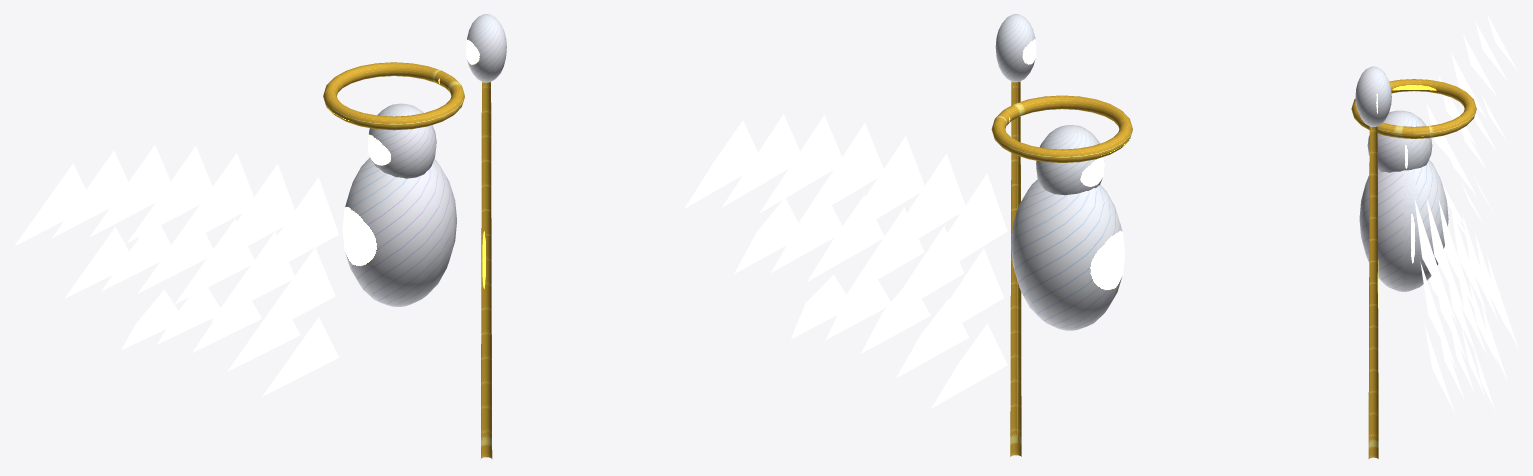
The model's file is moksha_seraph.glb.
3 renders of one model, left to right at view 1: azimuth 30°, elevation 25°; view 2: azimuth 150°, elevation 25°; view 3: azimuth 270°, elevation 25°, orthographic. The views are drawn at different scales.
Parts seen in each view (by area): view 1: Node_MokshaSeraph; view 2: Node_MokshaSeraph; view 3: Node_MokshaSeraph.
Part boxes in pixels (x1,y1,x2,y2): Node_MokshaSeraph: (15, 14, 506, 458); Node_MokshaSeraph: (684, 14, 1132, 456); Node_MokshaSeraph: (1351, 15, 1518, 458).
Bounding box in the file's own units: 3.23 × 2.14 × 0.826.
Materials: 2 (2 with a texture image).
